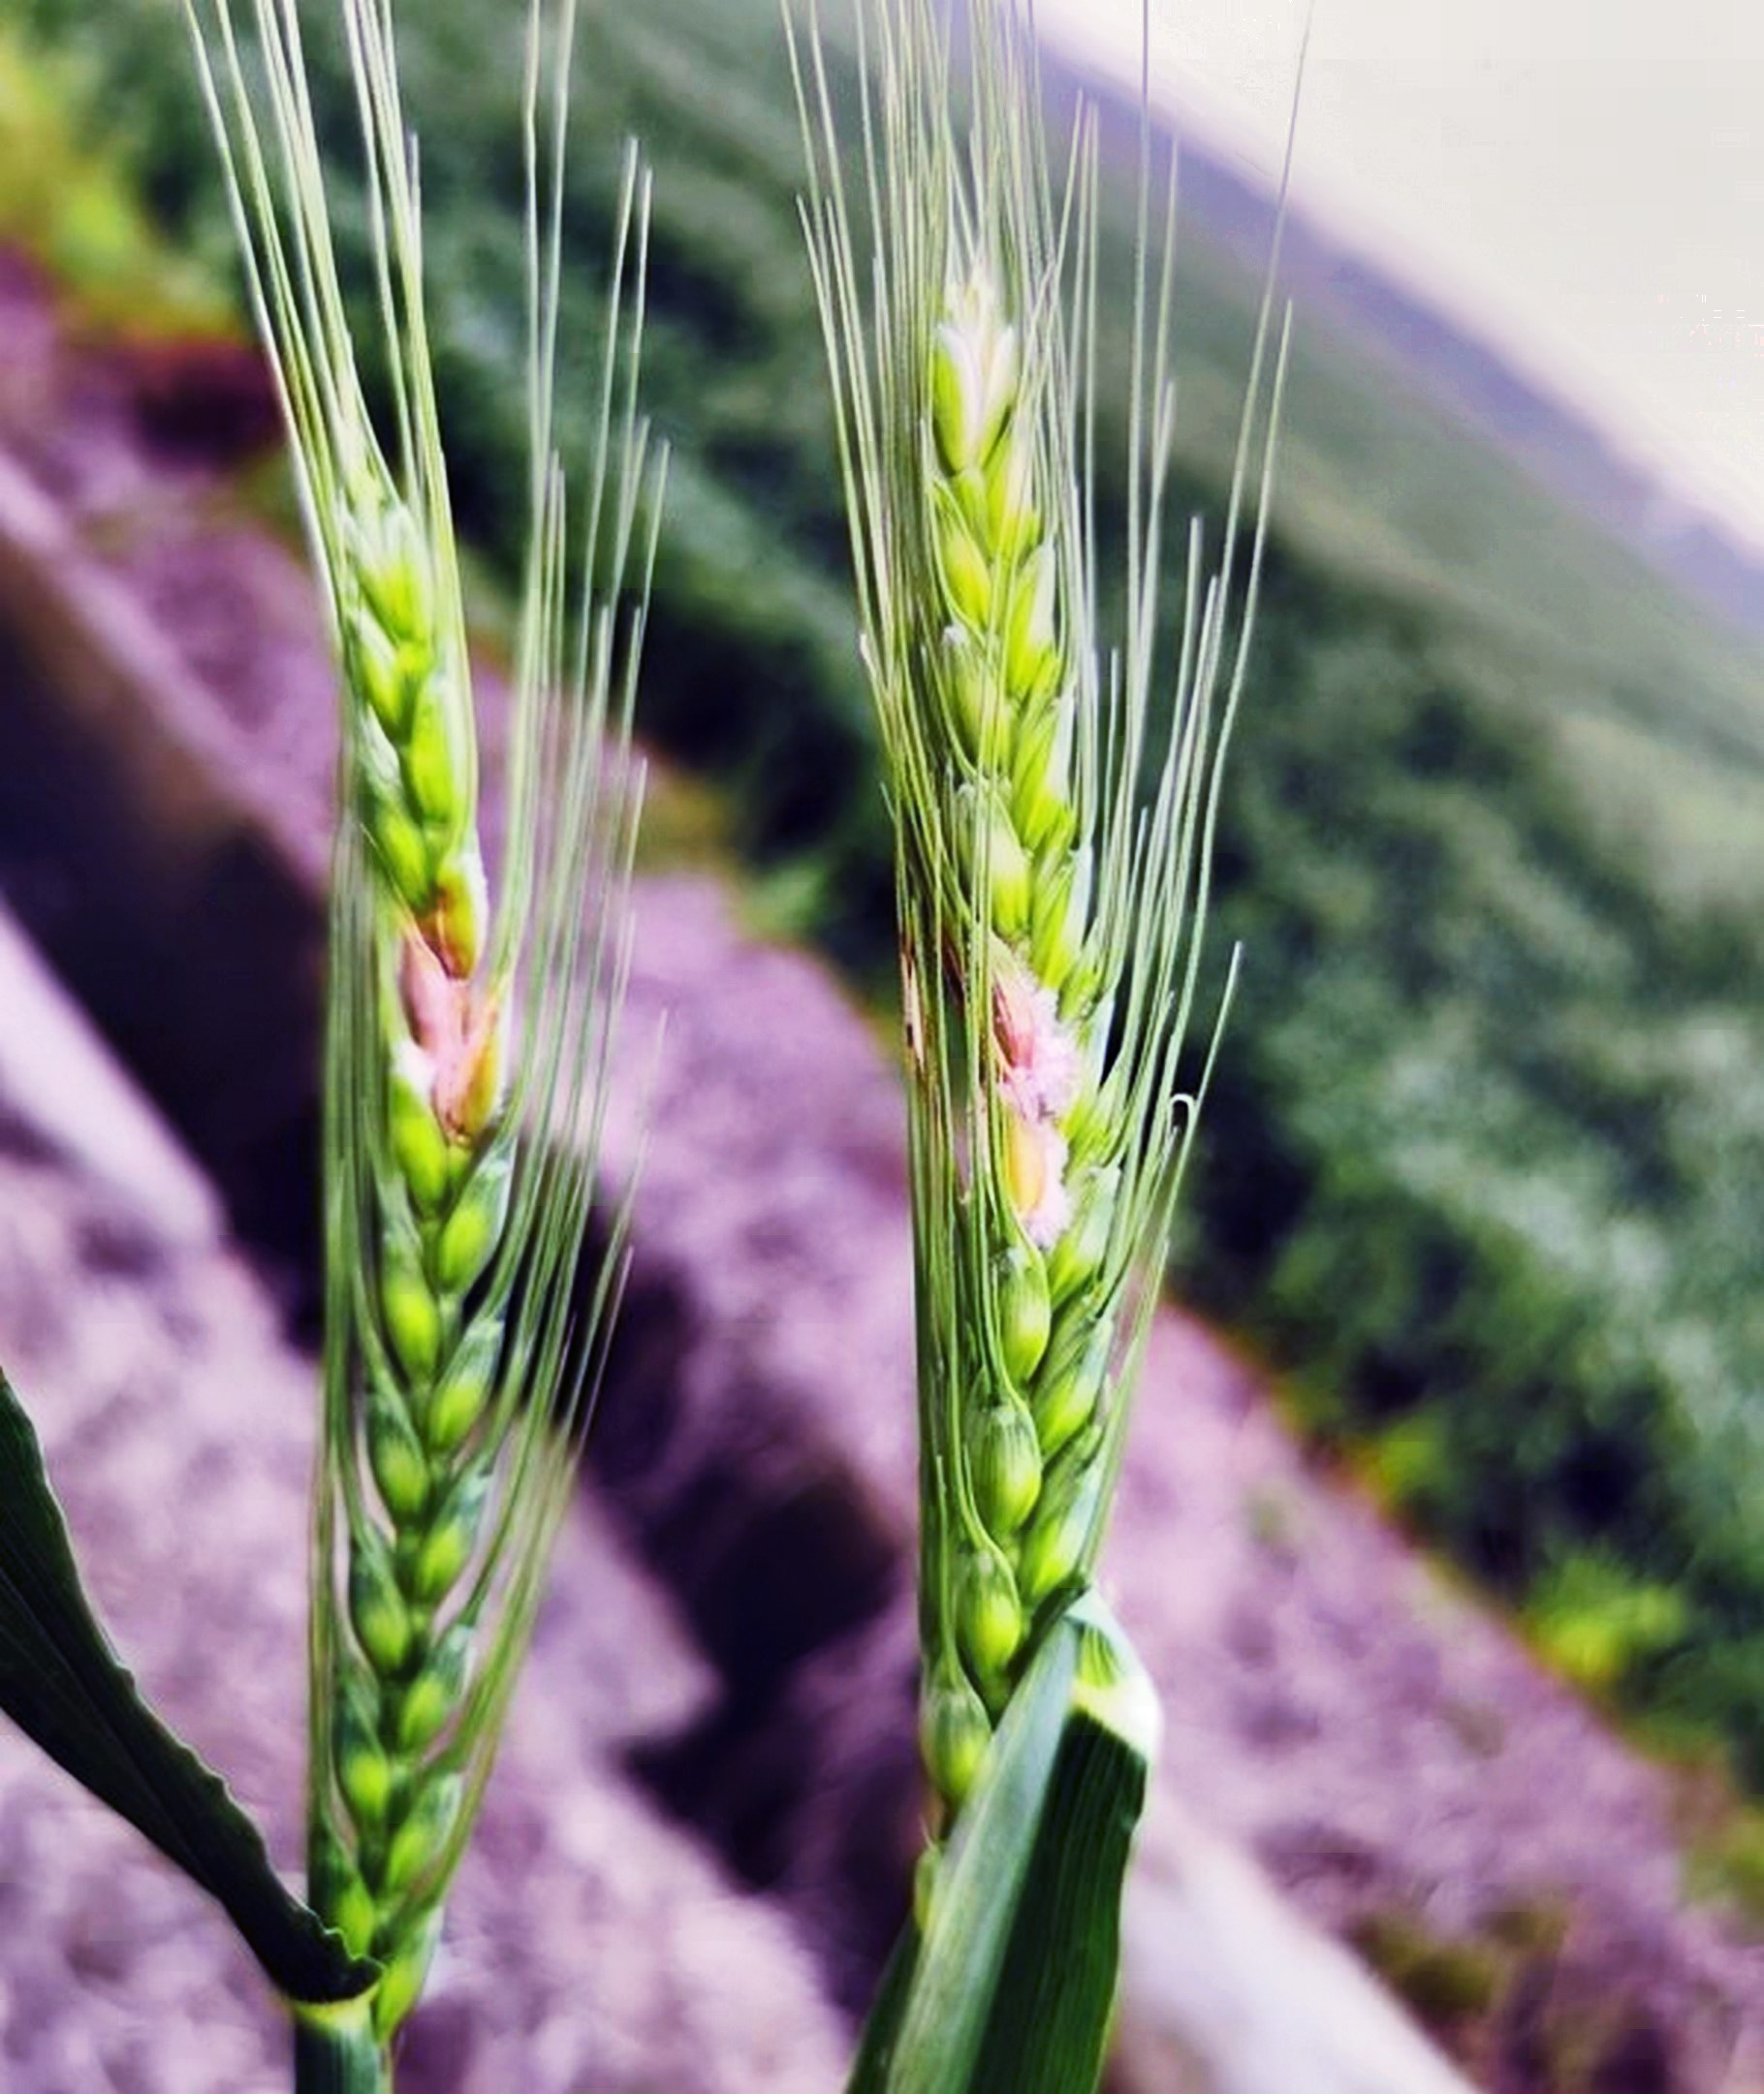Wheat scab: (812, 247, 1190, 1739), (264, 385, 525, 1996)
